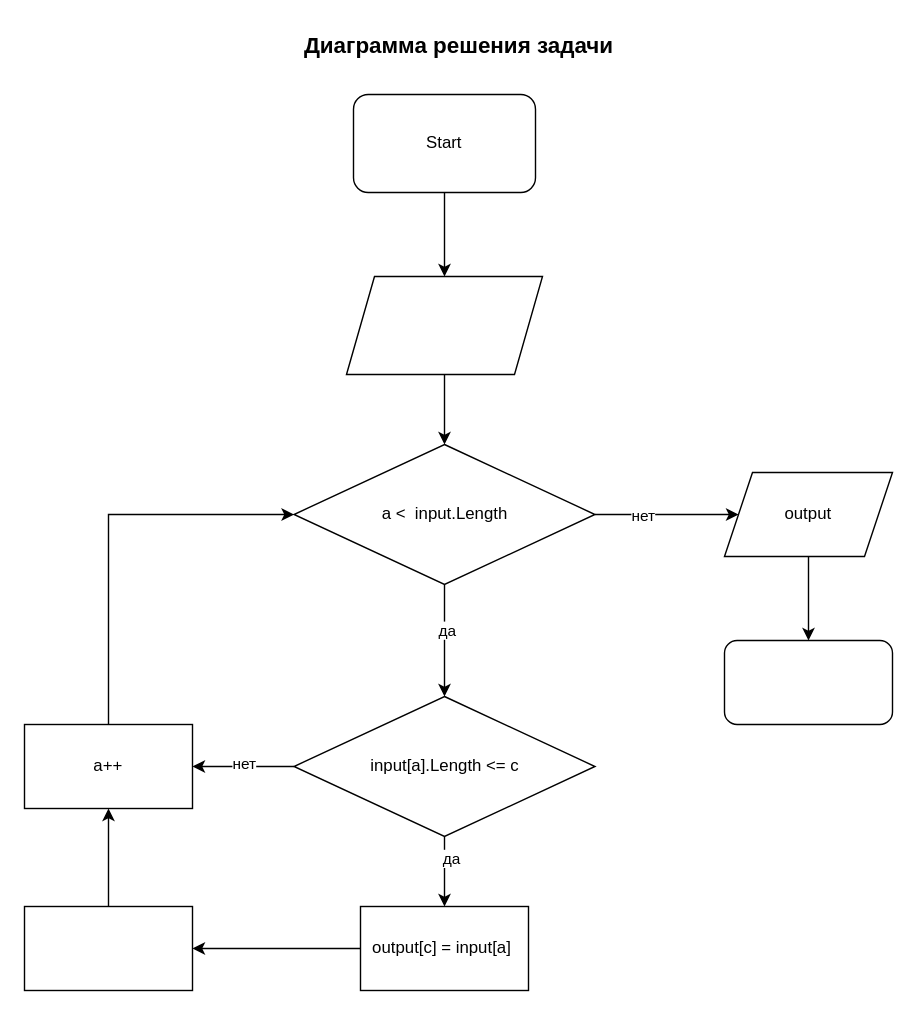
Some shapes in this 917 by 1015 pixel diagram are drawn without their labels. Each missing label, with the centre of its shape:
b++: the point at 107,947
End: the point at 807,681
string[] input, string[] output, int a = 0, int b = 0, int c = 3: the point at 443,324
